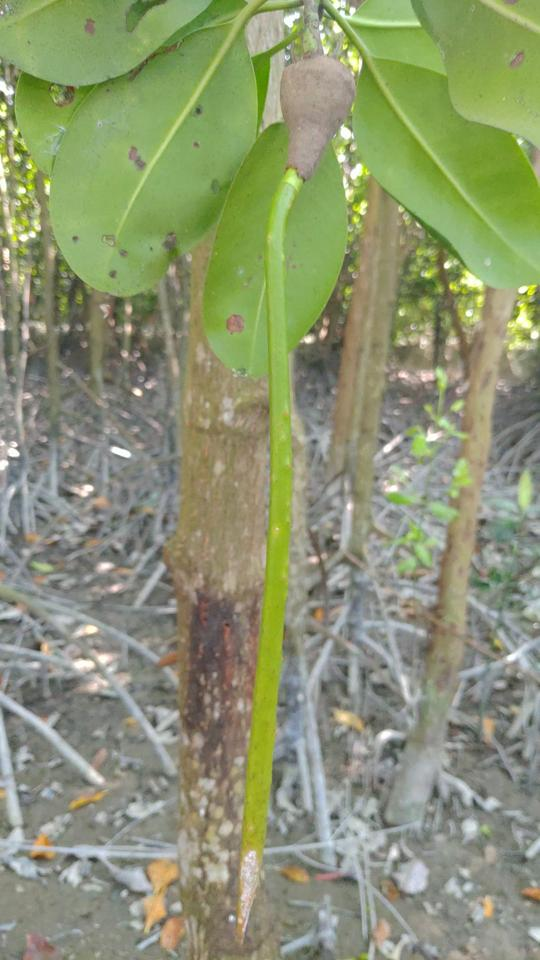setengah matang: (216, 30, 372, 947)
